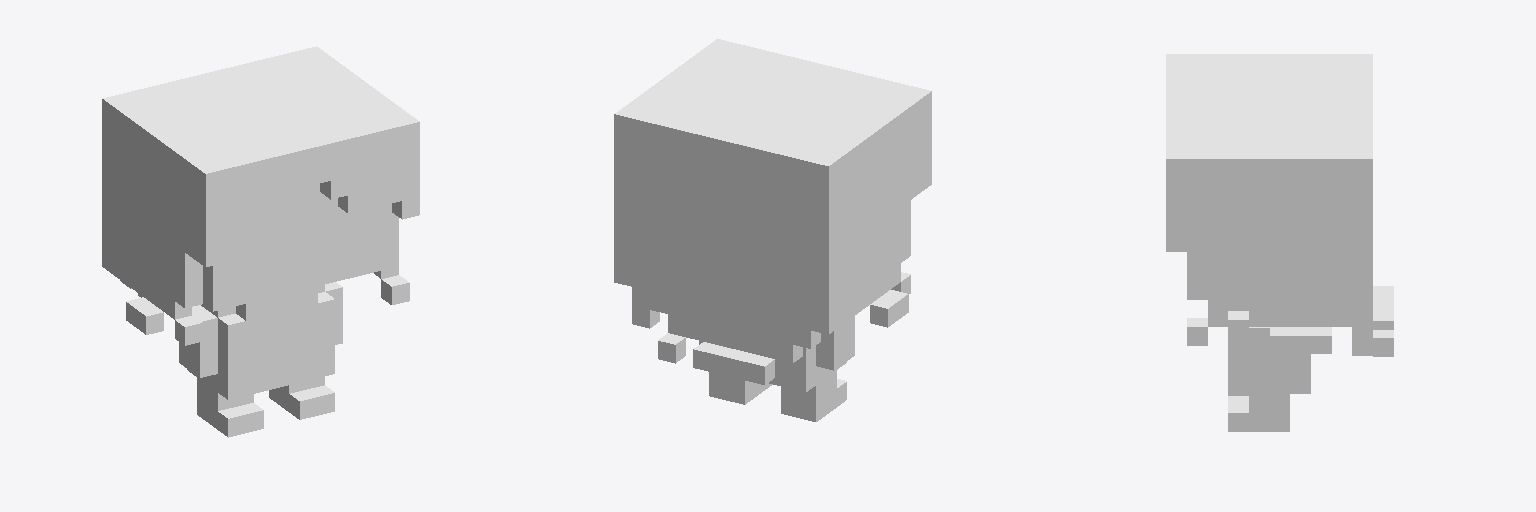
Rendered from rose.obj.
3 views of the same model, side by side, from view 1: azimuth 30°, elevation 25°; view 2: azimuth 150°, elevation 25°; view 3: azimuth 270°, elevation 25° (orthographic).
Size of the model in its own units: 14 by 16 by 11.